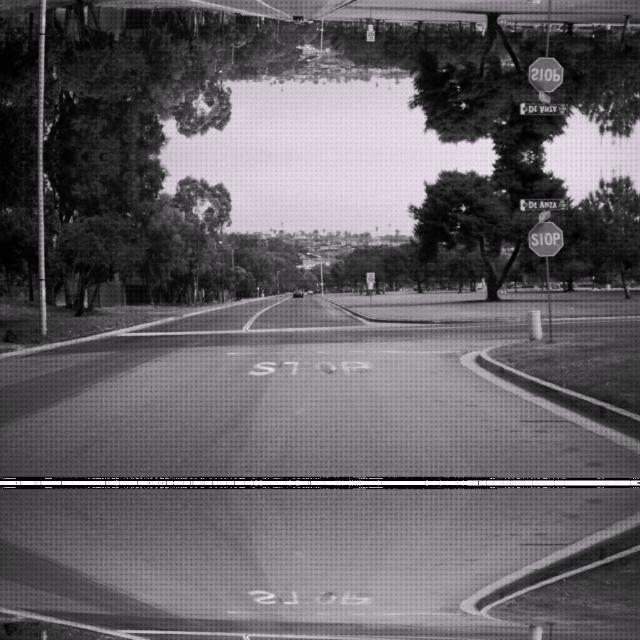stop: (527, 219, 563, 255), (527, 57, 563, 93)
